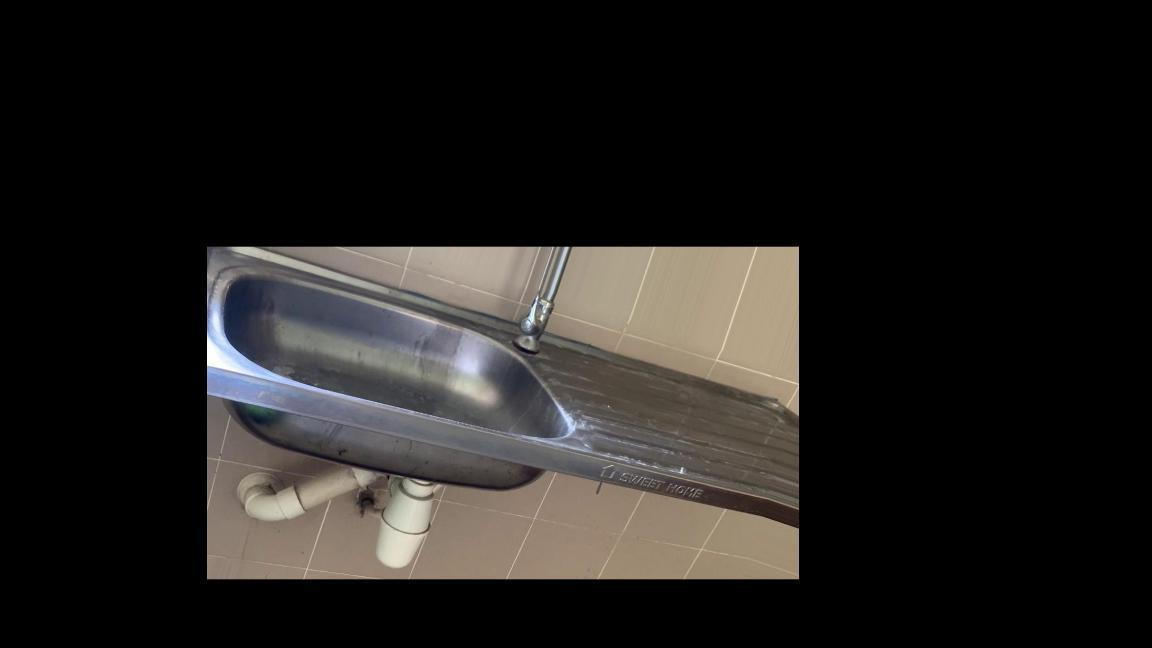Lavaplatos: (207, 246, 658, 497)
